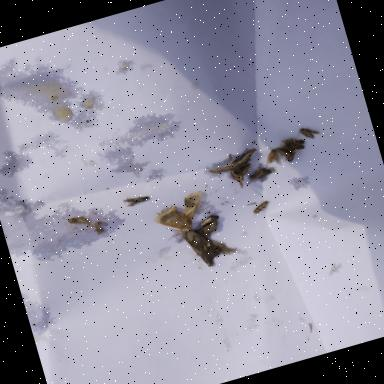abw: (150, 191, 214, 243)
pbw: (226, 164, 257, 192), (208, 234, 238, 262), (296, 124, 322, 143), (249, 198, 273, 218), (280, 134, 305, 150), (262, 145, 280, 167), (124, 193, 150, 208), (274, 144, 294, 160), (68, 214, 90, 228), (93, 220, 108, 236), (288, 142, 306, 154), (285, 150, 299, 164)
